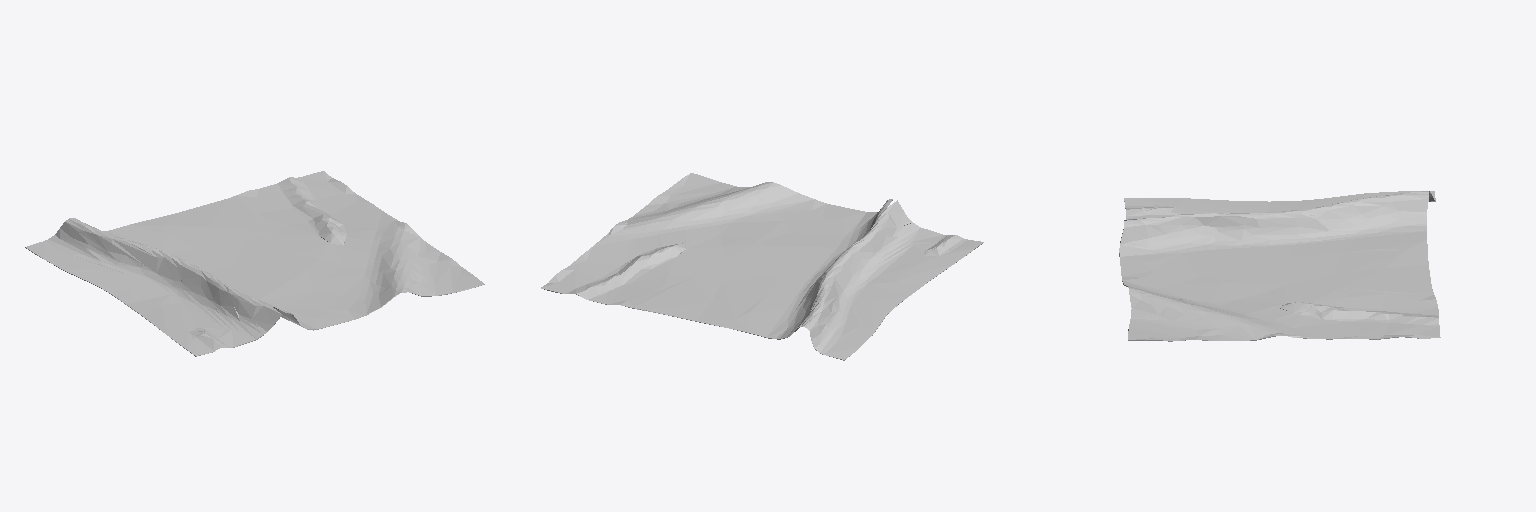
Rendered from napkin.obj.
The picture shows the model from 3 angles: view 1: azimuth 30°, elevation 25°; view 2: azimuth 150°, elevation 25°; view 3: azimuth 270°, elevation 25°; orthographic projection.
Parts seen in each view (by area): view 1: Napkin; view 2: Napkin; view 3: Napkin.
Part boxes in pixels (bbox=[...]): Napkin: bbox=[25, 171, 484, 356]; Napkin: bbox=[541, 173, 983, 360]; Napkin: bbox=[1119, 191, 1440, 341].
Size of the model in its own units: 37.53 by 2.81 by 33.98.